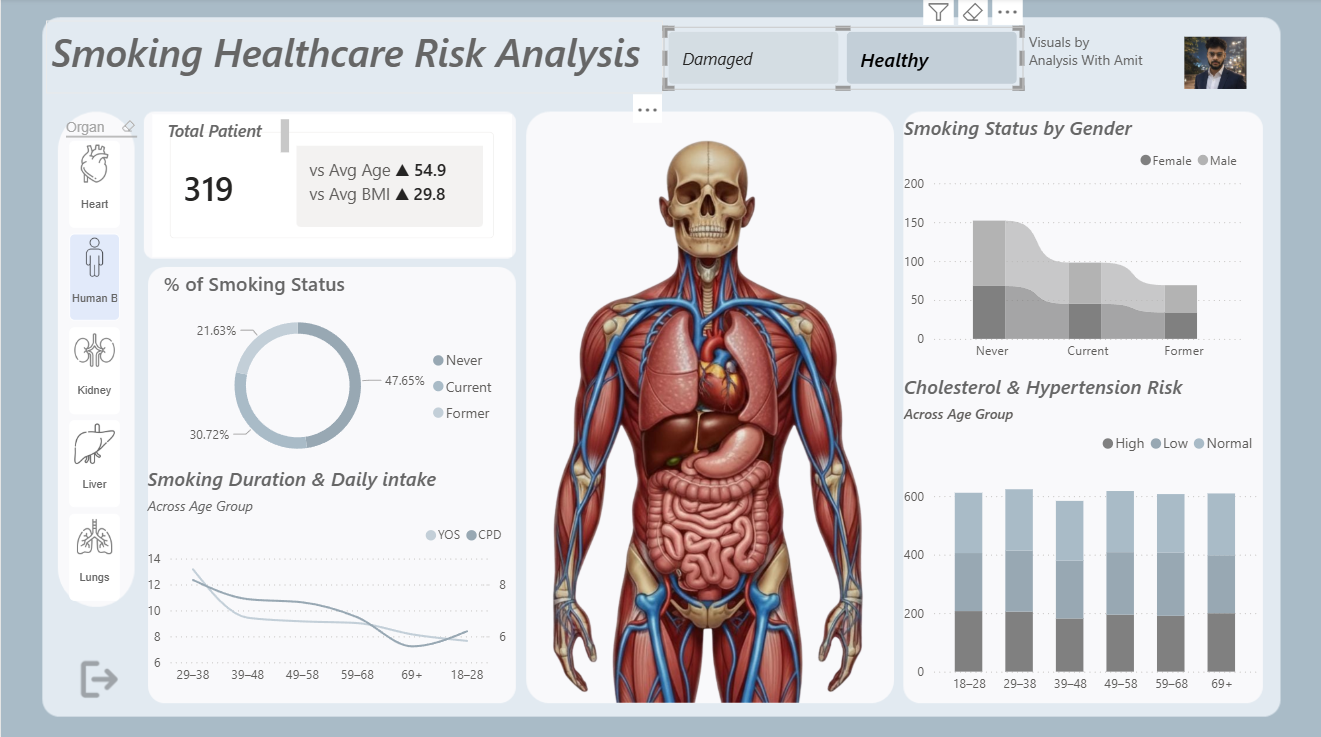

What the dashboard file says about the page in this screenshot:
{"tool":"powerbi","page":{"name":"Page 1","canvas":[1280,720],"ordinal":0},"visuals":[{"type":"cardVisual","fields":{"Data":["CountNonNull(health_dataset.Patient_ID)"]},"box":[145.5,112.5,347.2,137.2],"z":0},{"type":"textbox","box":[155.1,112.5,127.6,45.3],"z":1000},{"type":"advancedSlicerVisual","fields":{"Values":["condition.Organ_Condition"]},"box":[639.5,27.4,347.2,60.4],"z":2000},{"type":"image","box":[514.6,112.5,336.2,568.1],"z":4000},{"type":"donutChart","title":"% of Smoking Status","fields":{"Category":["health_dataset.Smoking_Status"],"Y":["CountNonNull(health_dataset.Smoking_Status)"]},"box":[152.3,263.5,336.2,197.6],"z":5000},{"type":"lineChart","title":"Smoking Duration & Daily intake","fields":{"Category":["health_dataset.Age Group"],"Y":["Avg(health_dataset.Years_of_Smoking)"],"Y2":["Avg(health_dataset.Cigarettes_Per_Day)"]},"box":[135.8,451.5,356.8,219.6],"z":6000},{"type":"ribbonChart","title":"Smoking Status by Gender","fields":{"Category":["health_dataset.Smoking_Status"],"Y":["CountNonNull(health_dataset.Patient_ID)"],"Series":["health_dataset.Gender"]},"box":[865.9,112.5,336.2,247],"z":7000},{"type":"columnChart","title":"Cholesterol & Hypertension Risk","fields":{"Category":["health_dataset.Age Group"],"Y":["Avg(health_dataset.Cholesterol_Level)"],"Series":["health_dataset.BP_Risk"]},"box":[865.9,362.3,351.3,318.4],"z":8000},{"type":"textbox","box":[43.9,22,595.5,70],"z":9000},{"type":"textbox","box":[986.7,27.8,132.2,59.8],"z":10000},{"type":"image","box":[1141.1,37.6,61.2,50.1],"z":11000},{"type":"ChicletSlicer1448559807354","fields":{"Category":["Organs.Organ"],"Image":["Organs.Icon_URL"]},"box":[57.9,112.2,78.4,503.1],"z":11001}]}

Visuals, with their boxes in screenshot pixels (x1, y1, x2, y2), scaled from the page's 1280x720 canvas onto the 1321x737 screenshot:
cardVisual - CountNonNull(health_dataset.Patient_ID): [150, 115, 508, 256]
textbox: [160, 115, 292, 162]
advancedSlicerVisual - condition.Organ_Condition: [660, 28, 1018, 90]
image: [531, 115, 878, 697]
"% of Smoking Status" donutChart: [157, 270, 504, 472]
"Smoking Duration & Daily intake" lineChart: [140, 462, 508, 687]
"Smoking Status by Gender" ribbonChart: [894, 115, 1241, 368]
"Cholesterol & Hypertension Risk" columnChart: [894, 371, 1256, 697]
textbox: [45, 23, 660, 94]
textbox: [1018, 28, 1155, 90]
image: [1178, 38, 1241, 90]
ChicletSlicer1448559807354 - Organs.Organ x Organs.Icon_URL: [60, 115, 141, 630]
